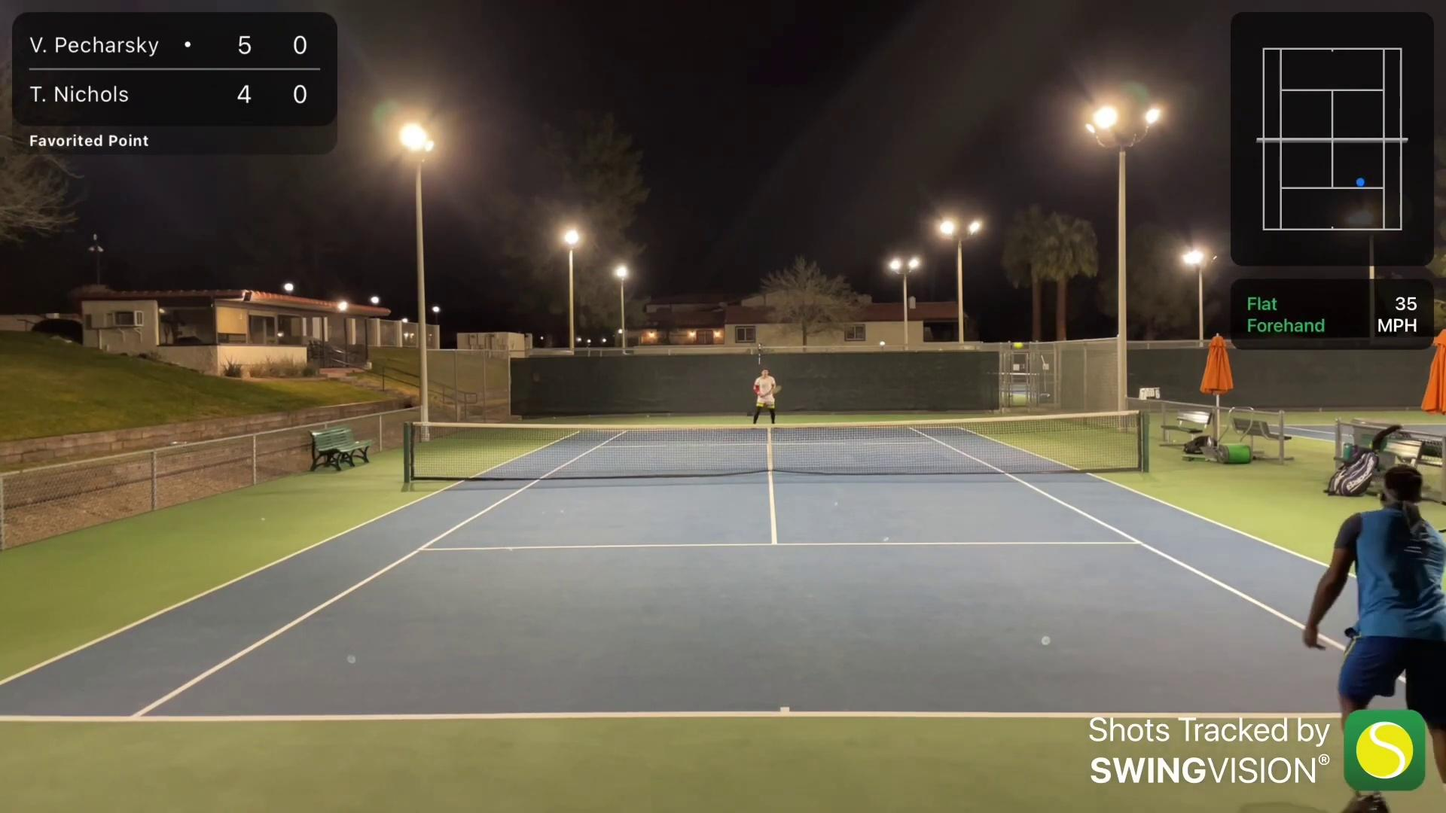ball: (1011, 342, 1018, 349)
